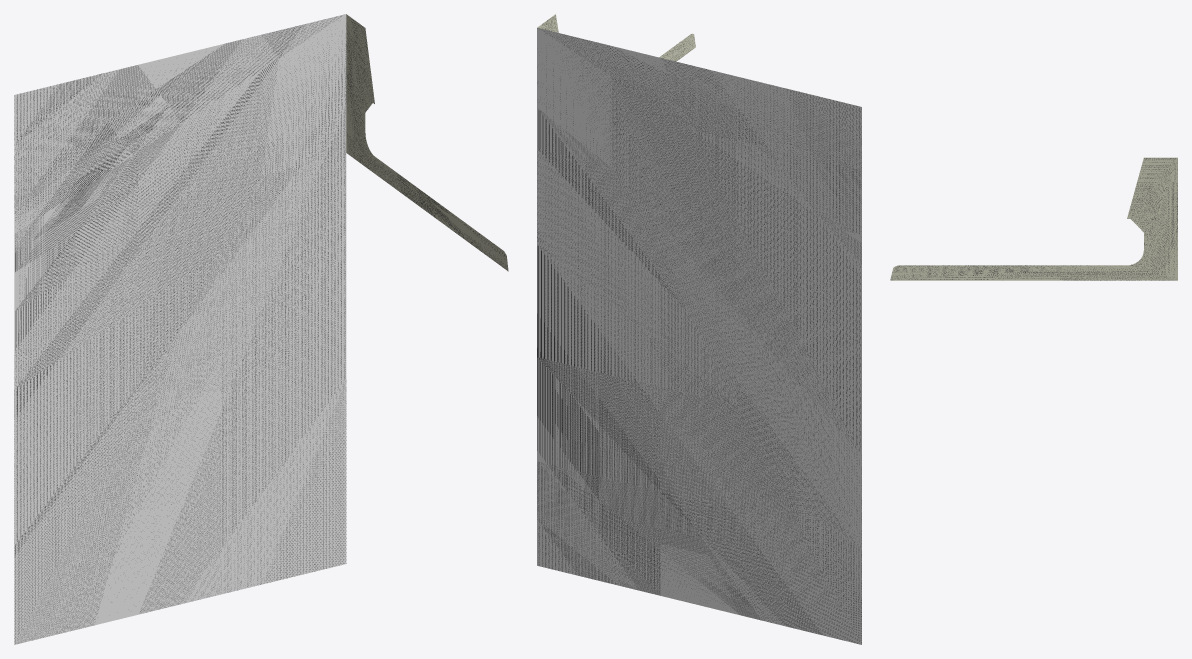
Rendered from original-51.obj.
The picture shows the model from 3 angles, left to right: view 1: azimuth 30°, elevation 25°; view 2: azimuth 150°, elevation 25°; view 3: azimuth 270°, elevation 25°; orthographic projection. The views are drawn at different scales.
Visible parts, largest first — view 1: mesh16/mesh16-geometry/material_5#mesh16-geometry; view 2: mesh16/mesh16-geometry/material_5#mesh16-geometry; view 3: mesh16/mesh16-geometry/material_5#mesh16-geometry.
Boxes of the visible parts, bbox=[...] form: mesh16/mesh16-geometry/material_5#mesh16-geometry: bbox=[14, 14, 508, 644]; mesh16/mesh16-geometry/material_5#mesh16-geometry: bbox=[537, 14, 861, 644]; mesh16/mesh16-geometry/material_5#mesh16-geometry: bbox=[890, 157, 1177, 280].
Bounding box in the file's own units: 0.9331 × 1.48 × 0.7903.
